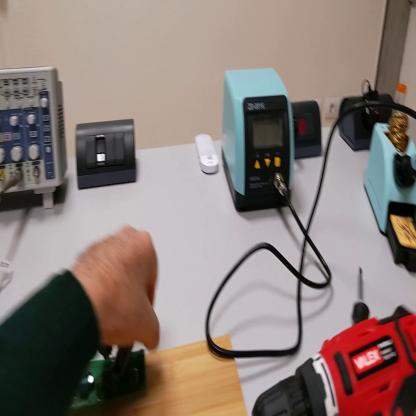electric screwdriver: (252, 303, 415, 415)
hand: (72, 225, 162, 357)
high voltage board: (70, 349, 152, 415)
oscilloscope: (2, 69, 70, 210)
screwdriver-: (353, 266, 369, 322)
socket: (339, 94, 394, 153), (293, 100, 322, 158)
welder base: (364, 74, 416, 270)
welder probe tip: (399, 153, 415, 184)
welder station: (220, 68, 298, 210)
working area: (78, 337, 251, 415)
